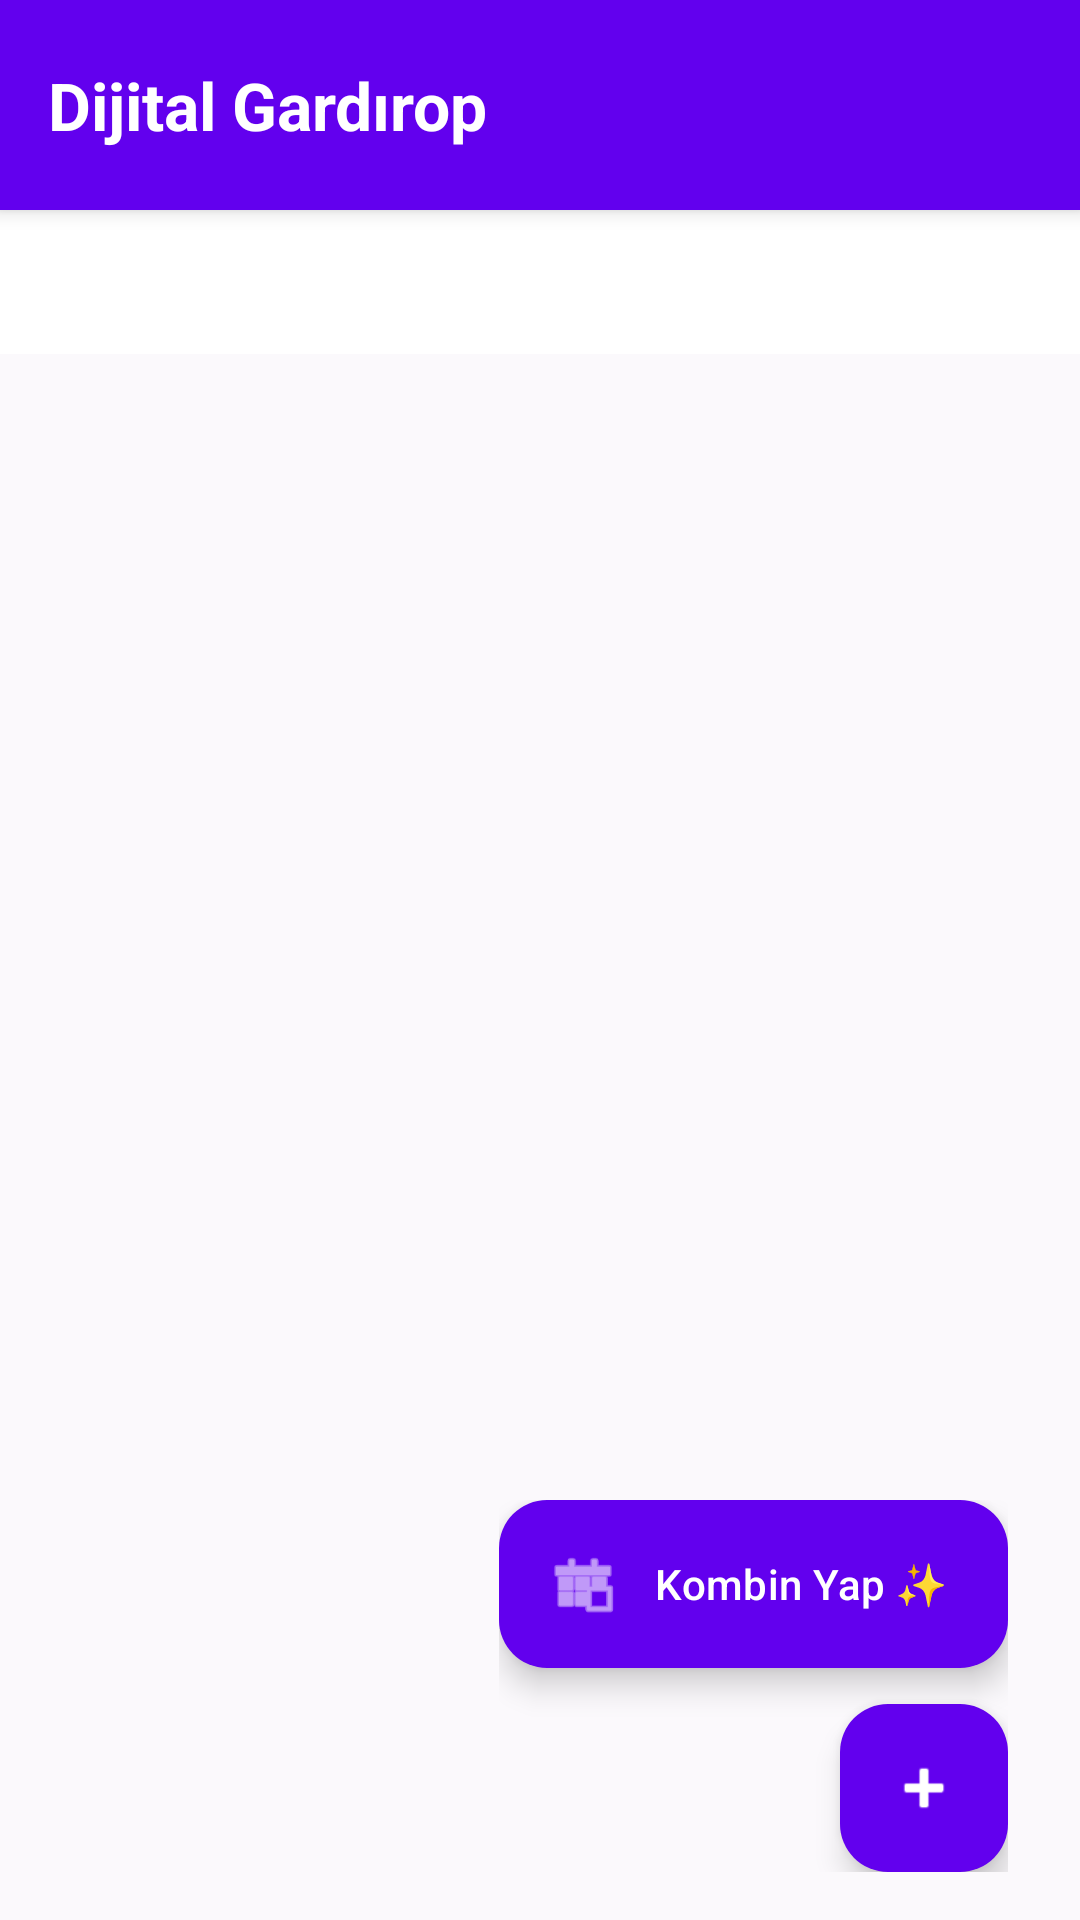

Locate icon controls on the screen. Image size 1080*1920, boxes as rect(x1, y1, x2, y2).
add: rect(840, 1704, 1008, 1872)
